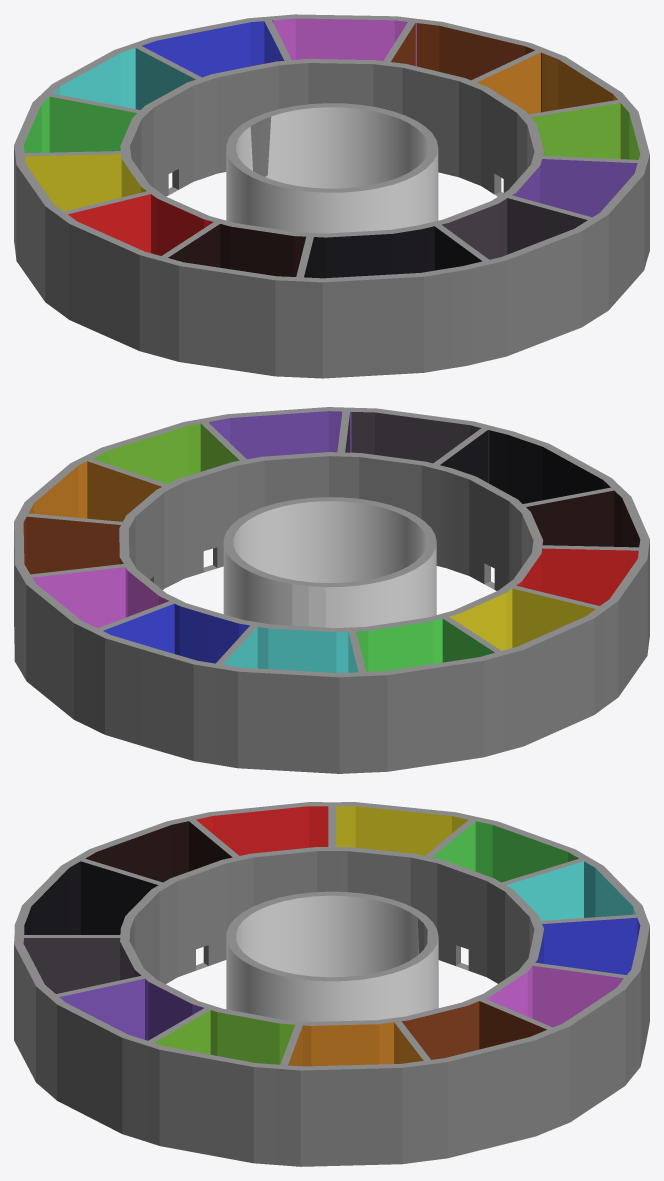
Rendered from salledetests.FBX.
3 views of the same model, one above another, from view 1: azimuth 30°, elevation 25°; view 2: azimuth 150°, elevation 25°; view 3: azimuth 270°, elevation 25° (orthographic).
Parts seen in each view (by area): view 1: Tube001; view 2: Tube001; view 3: Tube001.
Part boxes in pixels (<box>): Tube001: <box>14,14,649,378</box>; Tube001: <box>14,407,649,773</box>; Tube001: <box>14,802,649,1166</box>.
Size of the model in its own units: 329 by 55 by 329.
